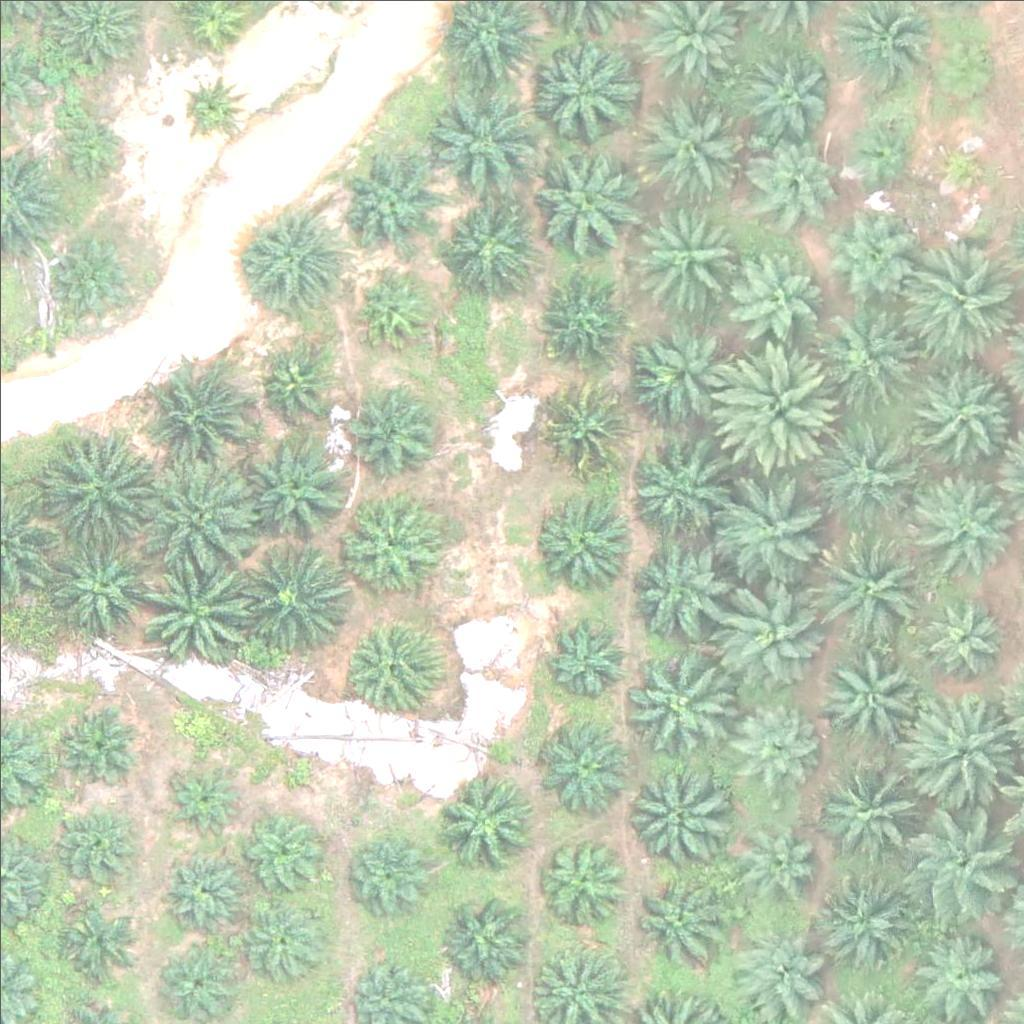Kelapa_Sawit: (707, 342, 832, 468), (45, 430, 158, 544), (717, 476, 830, 590), (816, 747, 929, 861), (428, 89, 541, 202), (527, 145, 640, 258), (523, 34, 636, 147), (815, 529, 928, 642), (811, 417, 924, 530), (904, 362, 1017, 475), (238, 535, 351, 648), (623, 646, 736, 759), (899, 802, 1012, 915), (710, 571, 823, 684), (618, 760, 730, 874), (138, 456, 250, 569), (907, 244, 1019, 357), (139, 552, 251, 665), (905, 697, 1017, 810), (250, 438, 350, 539), (530, 496, 630, 597), (623, 437, 723, 538), (637, 200, 737, 301), (642, 88, 742, 189), (820, 308, 920, 409), (818, 207, 918, 308), (51, 537, 151, 638), (436, 882, 536, 983), (435, 766, 535, 867), (817, 644, 917, 745), (152, 364, 252, 464), (242, 204, 342, 304), (339, 496, 439, 596), (336, 151, 436, 251), (628, 531, 728, 631), (638, 331, 738, 431), (341, 611, 441, 711), (533, 711, 633, 811), (624, 867, 724, 967), (723, 923, 823, 1023), (816, 867, 916, 967), (51, 229, 139, 317), (354, 391, 442, 479), (443, 196, 531, 284), (543, 385, 631, 473), (750, 133, 838, 221), (53, 696, 141, 784), (536, 829, 624, 917), (544, 616, 632, 704), (917, 591, 1005, 679), (748, 45, 835, 134), (541, 277, 628, 365), (733, 253, 820, 341), (346, 827, 433, 915), (236, 810, 323, 898), (240, 895, 327, 983), (155, 934, 242, 1022), (154, 850, 241, 938), (56, 806, 143, 894), (48, 903, 135, 991), (732, 802, 819, 890), (727, 697, 814, 785), (844, 112, 919, 188), (165, 765, 240, 841), (355, 272, 430, 348), (925, 25, 1000, 101), (260, 347, 335, 422), (52, 111, 127, 186), (179, 72, 242, 135), (931, 137, 993, 200)
